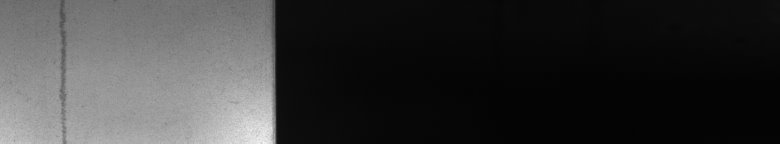hd: (53, 4, 71, 136)
